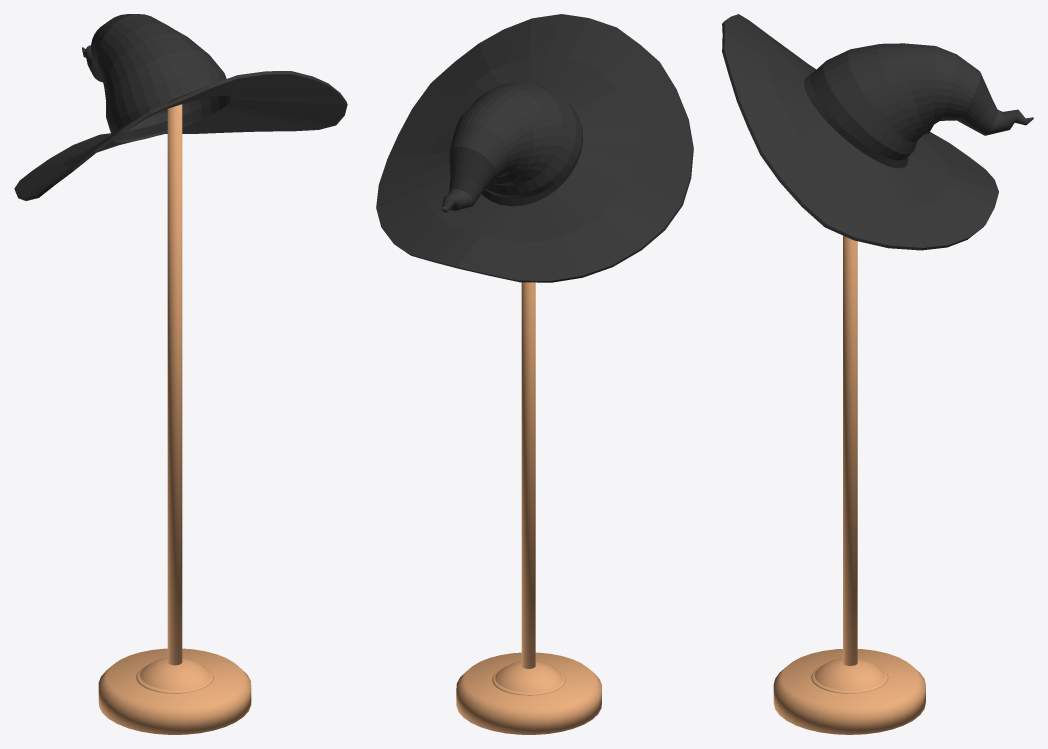
Rendered from Witch Hat.fbx.
3 views of the same model, side by side, from view 1: azimuth 30°, elevation 25°; view 2: azimuth 150°, elevation 25°; view 3: azimuth 270°, elevation 25° (orthographic). The views are drawn at different scales.
Parts seen in each view (by area): view 1: Sphere.003, Sphere, Sphere.002; view 2: Sphere.003, Sphere, Sphere.002; view 3: Sphere.003, Sphere, Sphere.002.
Boxes of the visible parts, x1,y1,x2,y2 form: Sphere.003: [14, 14, 347, 200]; Sphere: [98, 648, 251, 734]; Sphere.002: [167, 104, 182, 665]; Sphere.003: [376, 14, 693, 282]; Sphere: [456, 652, 601, 734]; Sphere.002: [521, 282, 535, 668]; Sphere.003: [722, 14, 1033, 250]; Sphere: [773, 649, 925, 734]; Sphere.002: [843, 235, 857, 665].
Bounding box in the file's own units: 449 × 971 × 409.
